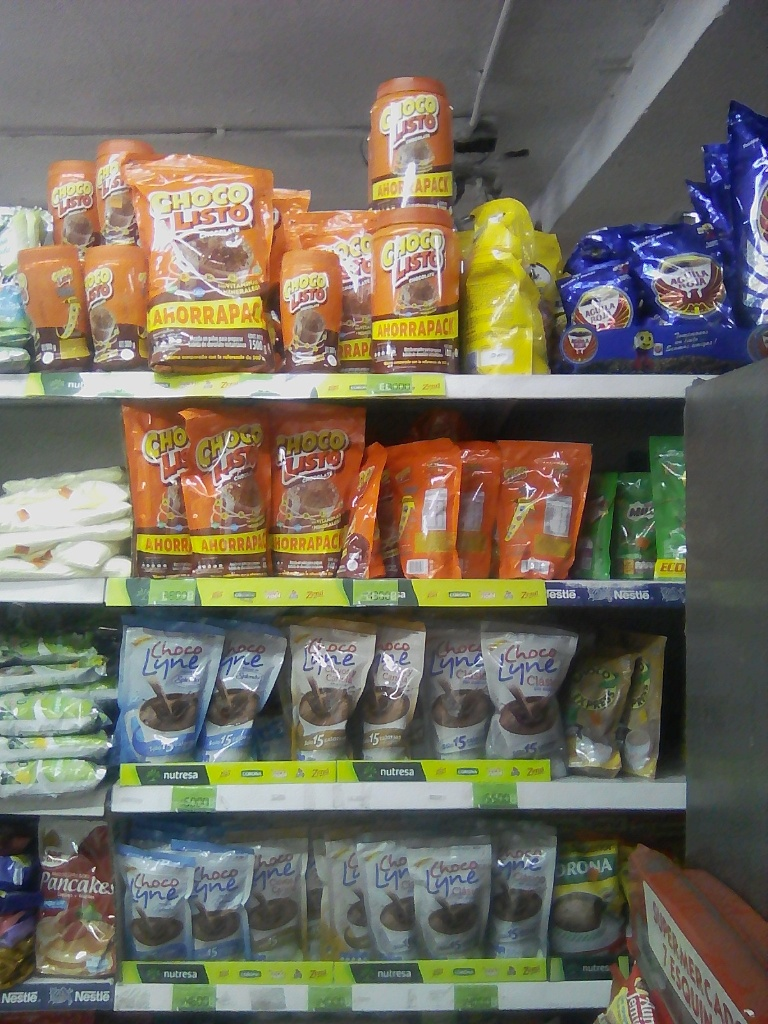COL0170103DYP1,500: (126, 150, 291, 373)
COL0170103DYP20000: (382, 437, 466, 579)
COL0170103DYP40000: (176, 409, 275, 576)
COL0170103TRR00100: (364, 71, 460, 211)
COL0170103TRR30000: (13, 248, 91, 371)
